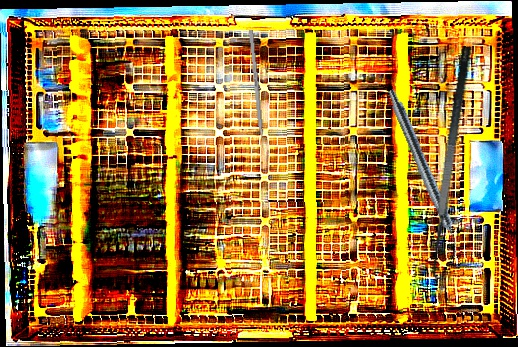Handpiece: (382, 87, 467, 259)
Pusher: (248, 30, 267, 161)
Spatula Surgical: (419, 45, 493, 282)
